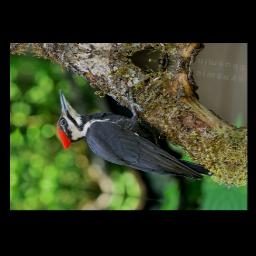Woodpecker: (46, 79, 227, 190)
